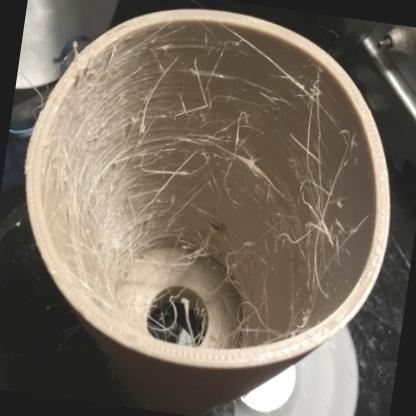fail: (52, 49, 371, 286)
